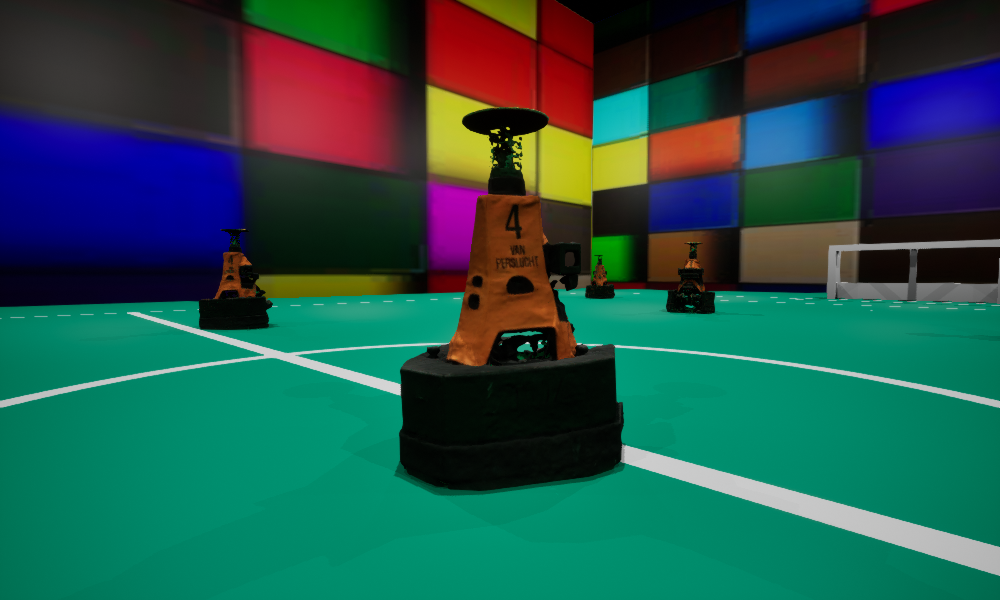o: (399, 107, 623, 490), (199, 229, 272, 329), (666, 242, 714, 312), (585, 255, 614, 298)
